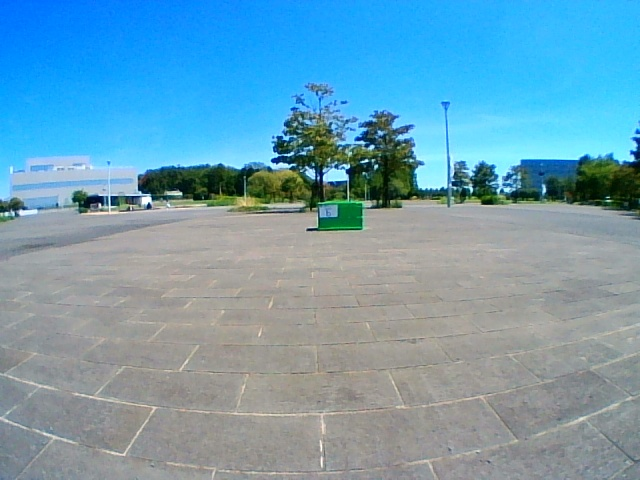green_box: (318, 200, 363, 229)
